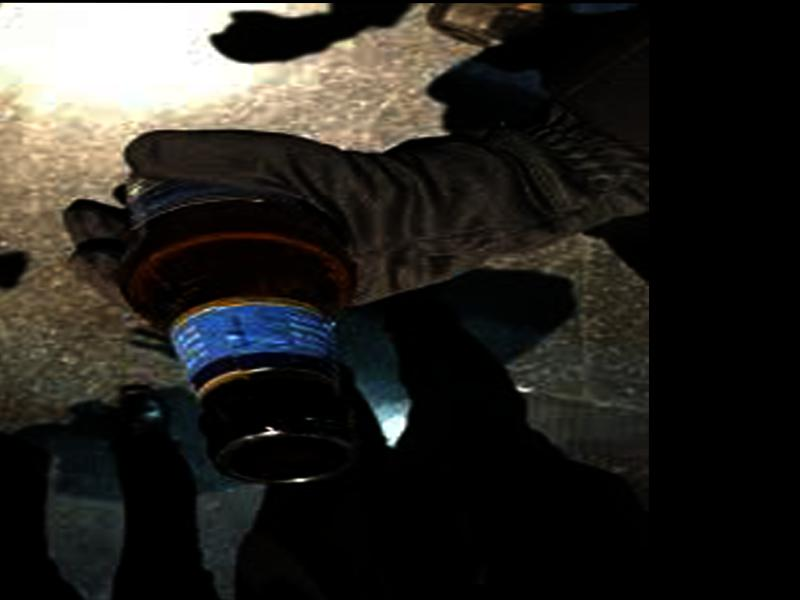Beer: (108, 150, 364, 484)
